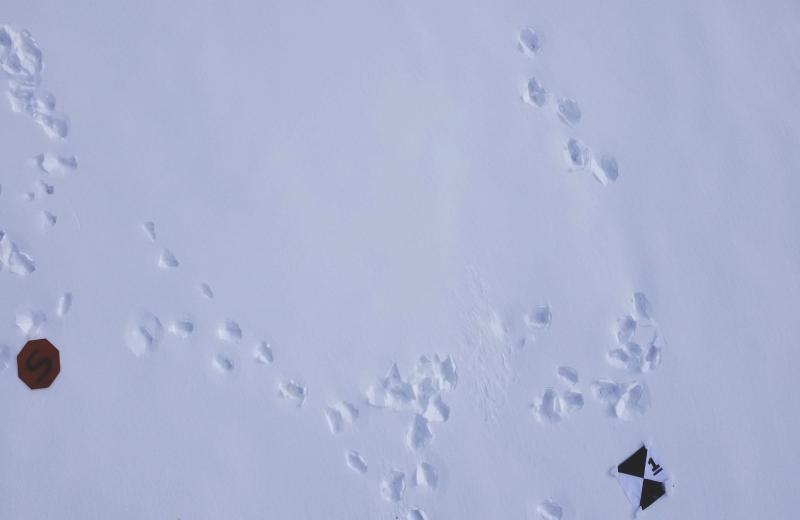Octagon: (16, 338, 62, 394)
